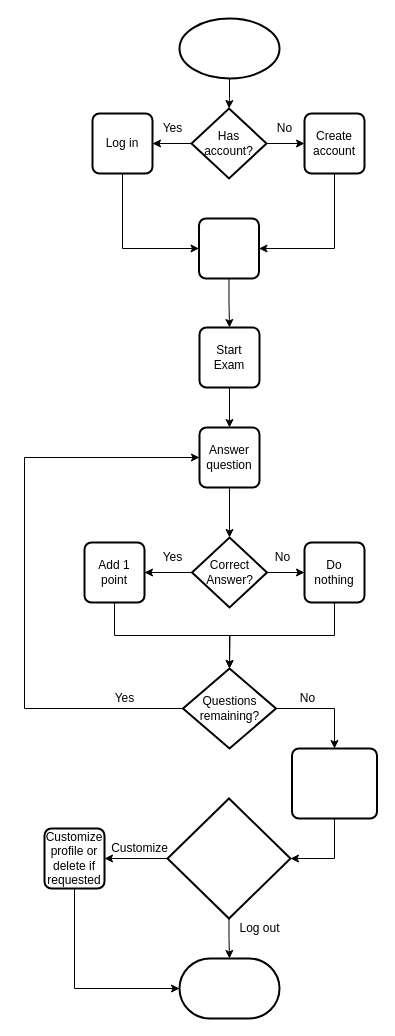
Image size: 395x1036. Some labels were removed from this diagram. The box of each missing label's shape, as (x1, y1, x2, y2) in pixels:
Ask if user wants to log out or customize profile or log out: (166, 797, 291, 919)
Customize profile: (198, 217, 260, 279)
Log out.: (178, 957, 280, 1019)
Participant uses link to exam: (178, 17, 280, 79)
Show result, statistics and details: (290, 747, 378, 819)
